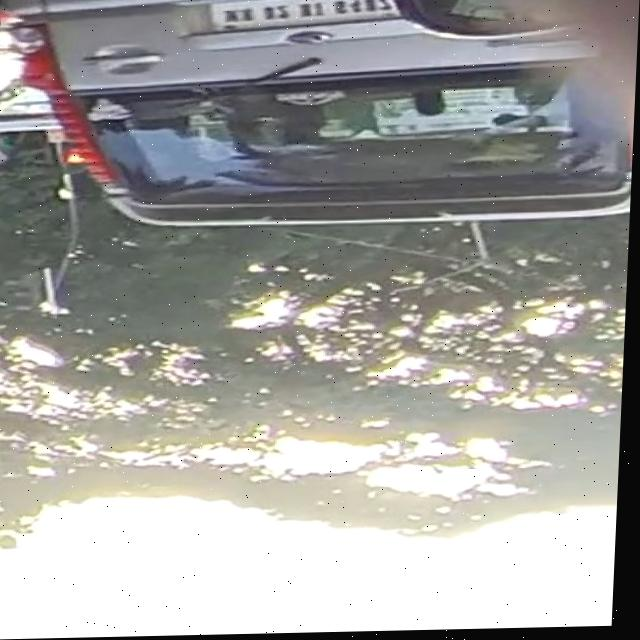plate: (211, 0, 406, 37)
